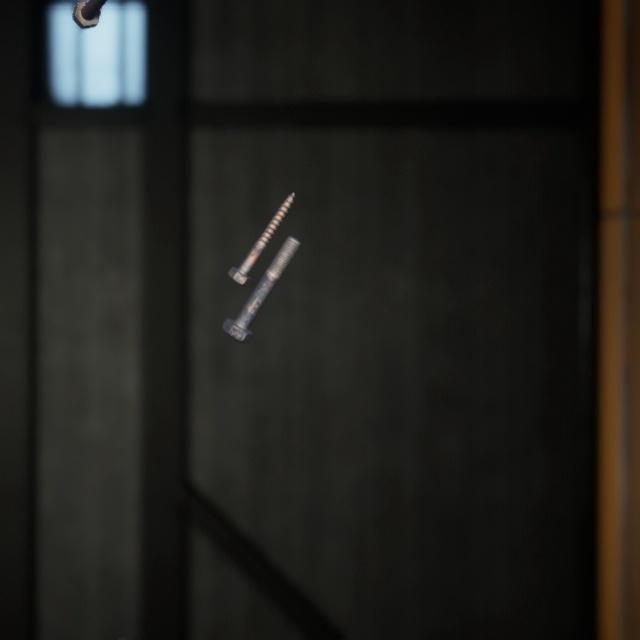bolt: (217, 213, 305, 330), (223, 171, 300, 274), (64, 609, 140, 640), (68, 0, 107, 26)
nut: (521, 614, 565, 640)
